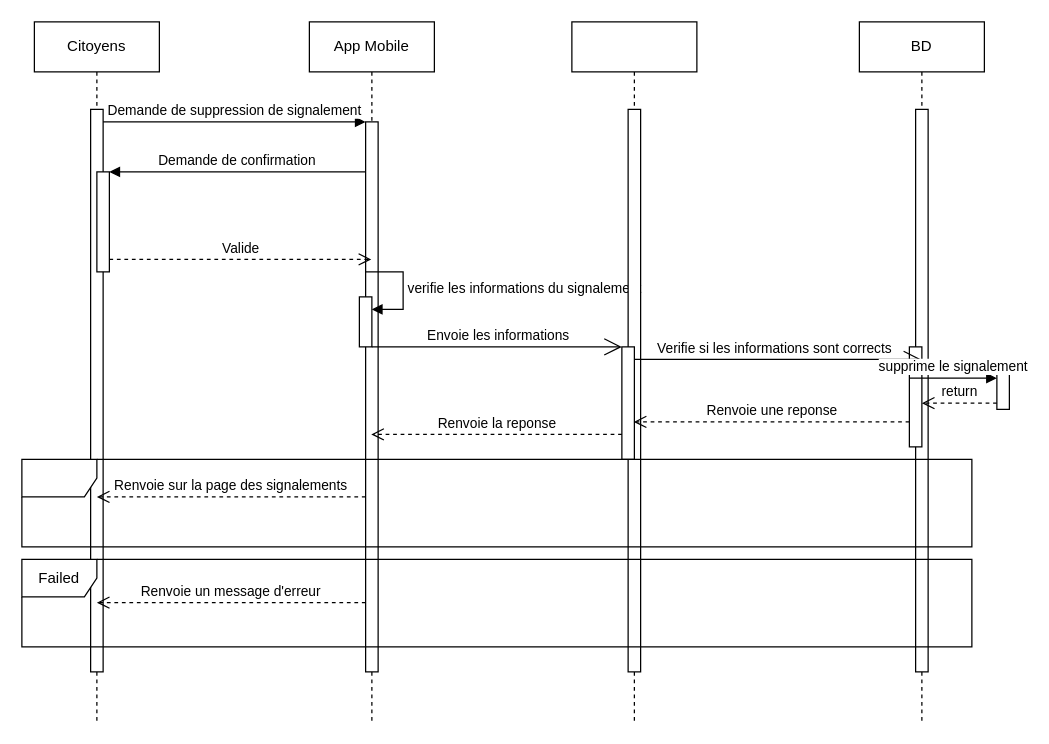
The diagram is 1049 pixels wide and 744 high, and some of its shapes have lost their labels. The shapes that lost their labels are listed below. From the top down, each one's box as (x1, y1, x2, y2) in pixels, then its label:
(571, 21, 697, 722): System
(21, 458, 972, 547): Success
